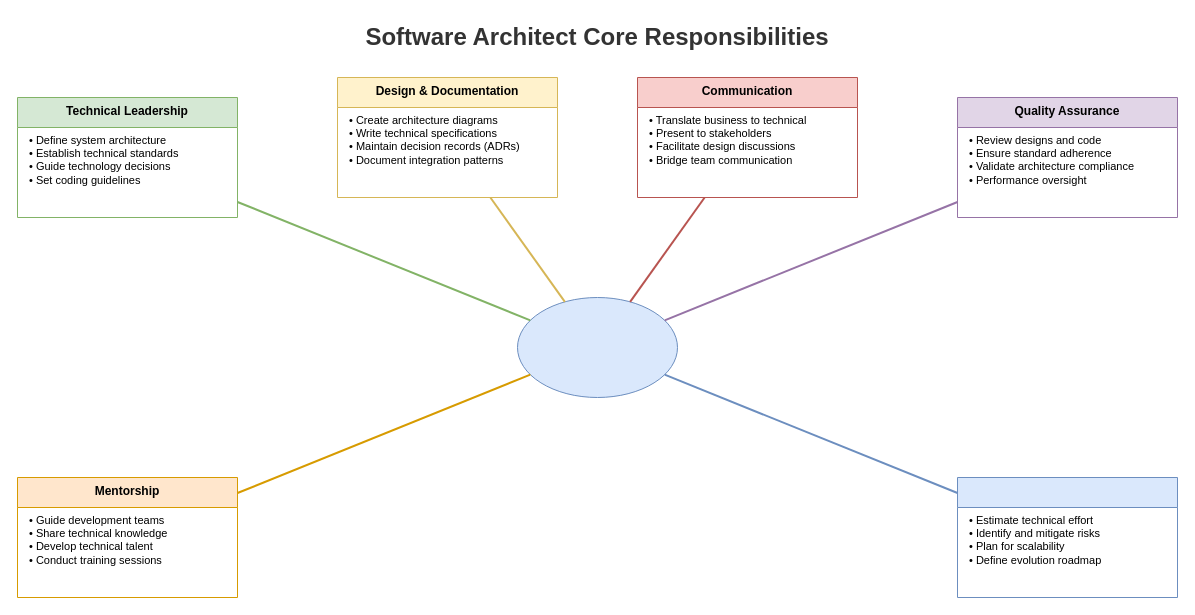
The diagram is 1195 pixels wide and 615 high, and some of its shapes have lost their labels. Here are the shapes that lost their labels. From the top down, the box of each, then its label:
(516, 296, 678, 398): SOFTWARE ARCHITECT
(956, 476, 1178, 598): Planning & Strategy
